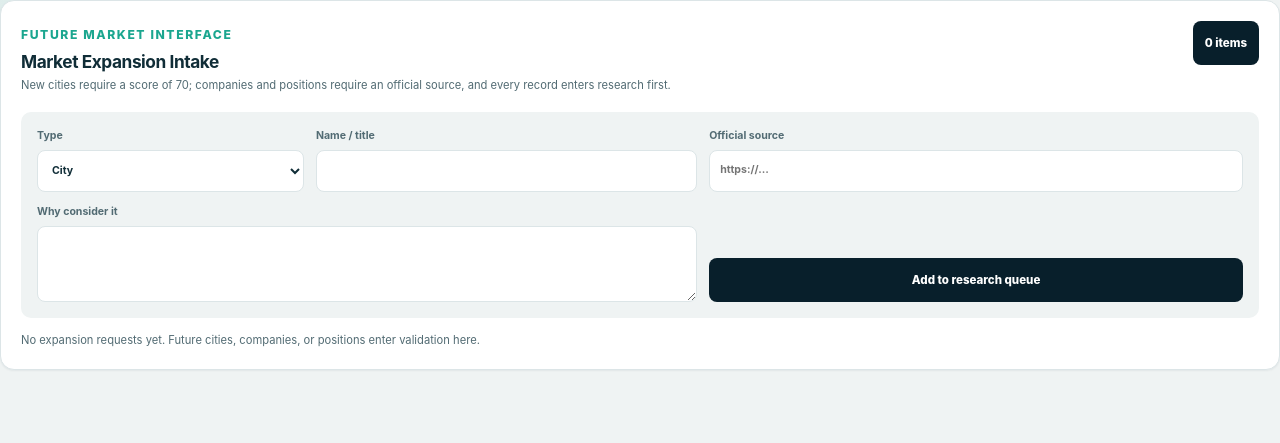
Test: MarketExpansionIntake › adds an expansion request to the review queue
This screenshot has width=1280, height=443.
Select "City" in the dropdown labelled "Type": [170, 171] box [37,150,304,192]
In the field labelled "Name / title": [507, 171] box [316,150,697,192], type "Toronto"
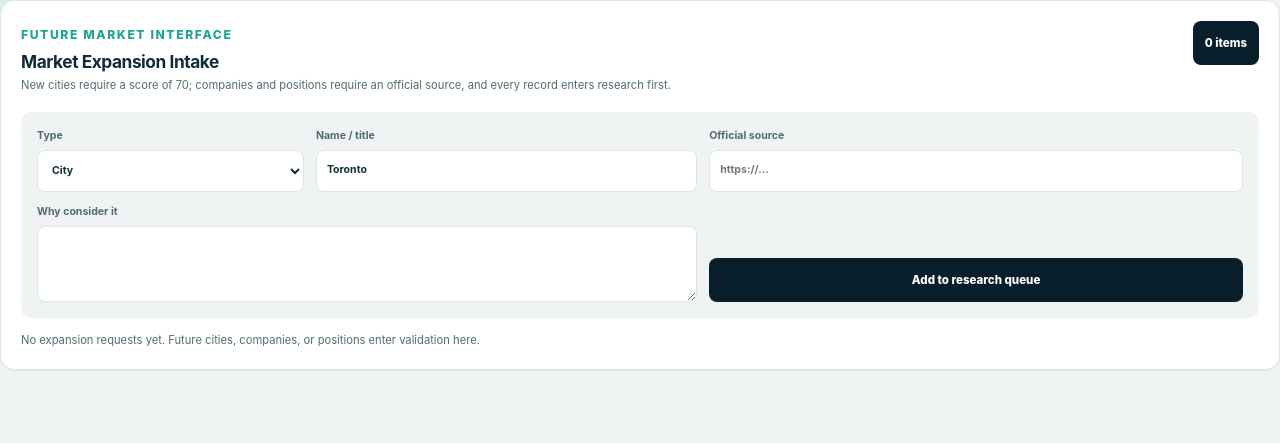
In the field labelled "Official source": [976, 171] box [709,150,1243,192], type "https://example.com/jobs"
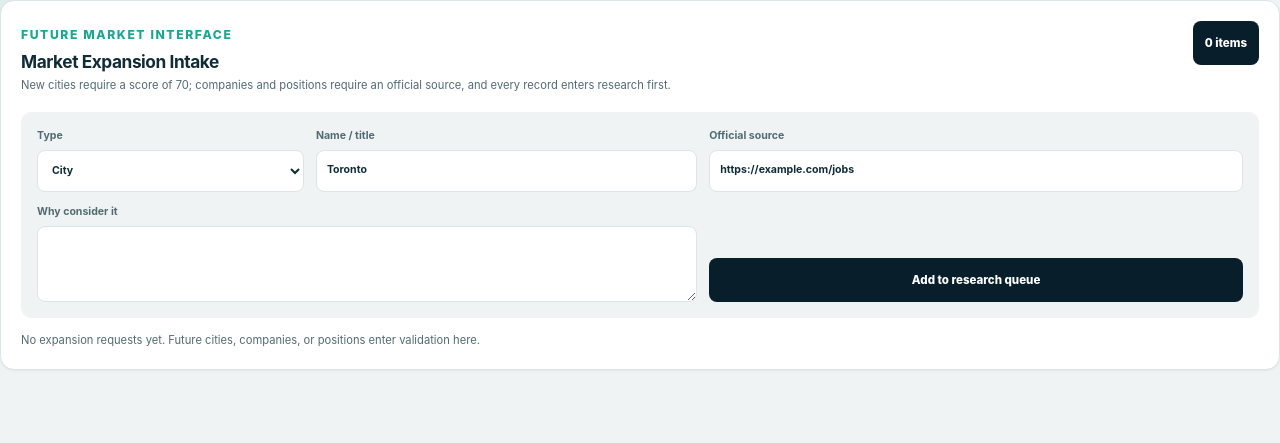
In the text box labelled "Why consider it": [367, 264] box [37,226,697,302], type "English-first AI market"
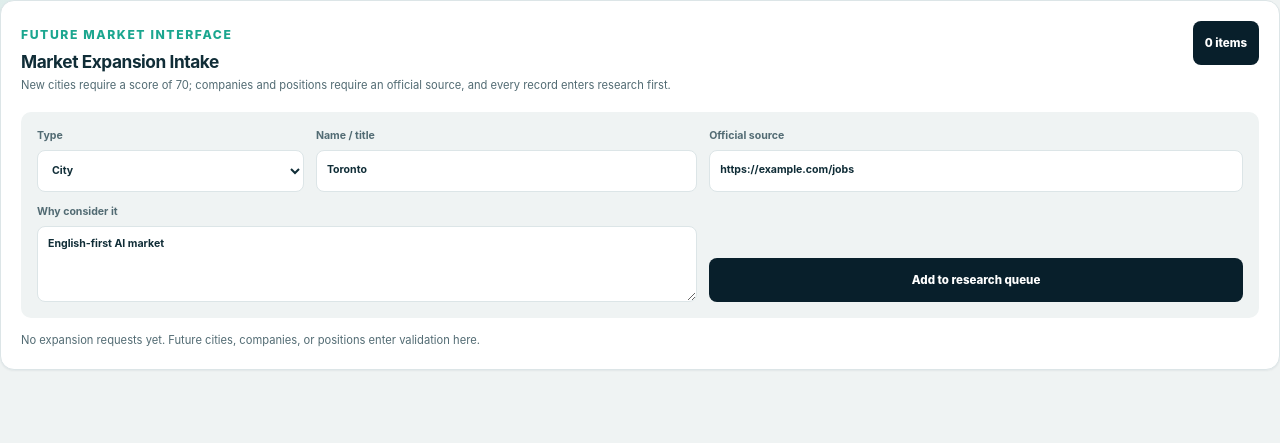
Click the button "Add to research queue": [976, 280] box [709,258,1243,302]
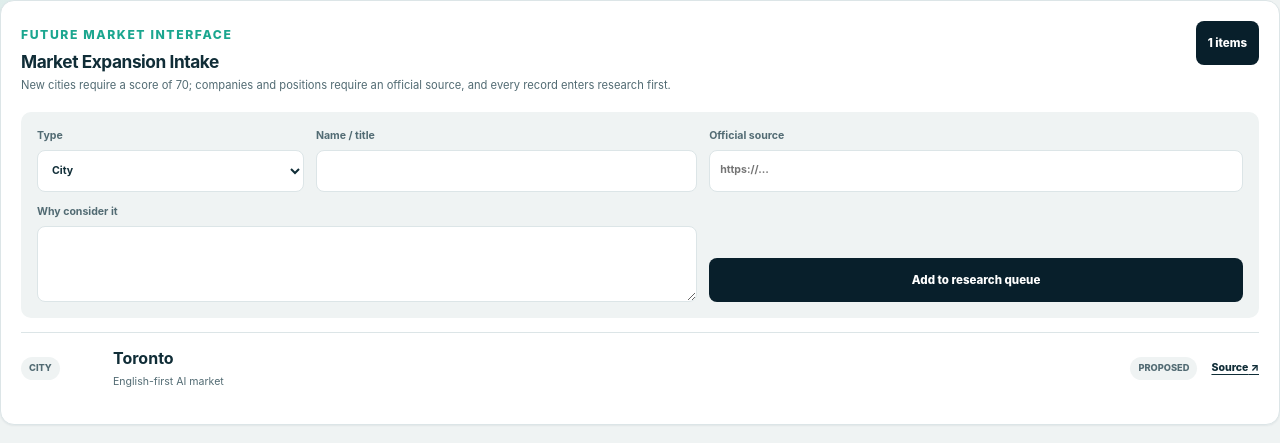
Expected: the text "Toronto" is shown, [113,348,174,368]
Expected: the text "Proposed" is shown, [1130,357,1197,380]
Expected: the field labelled "Name / title" is empty, [316,150,697,192]
